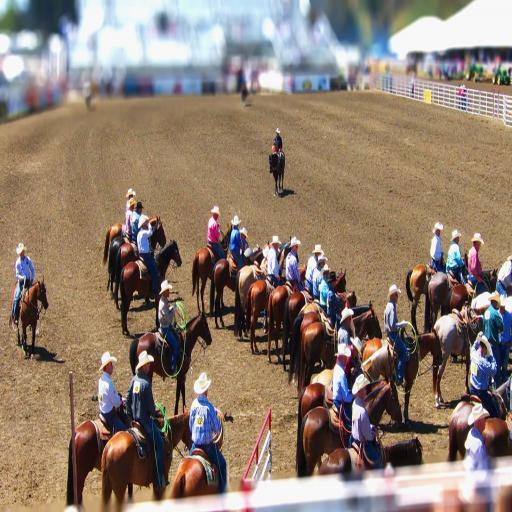horse: (189, 220, 444, 476), (406, 260, 512, 512), (100, 404, 192, 512), (113, 235, 185, 341), (63, 406, 134, 512), (112, 218, 168, 314), (106, 218, 166, 292), (102, 213, 162, 268), (10, 276, 48, 358), (166, 452, 221, 499), (268, 152, 286, 199)
